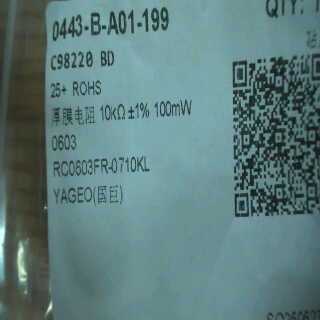10kR: (97, 101, 129, 123)
